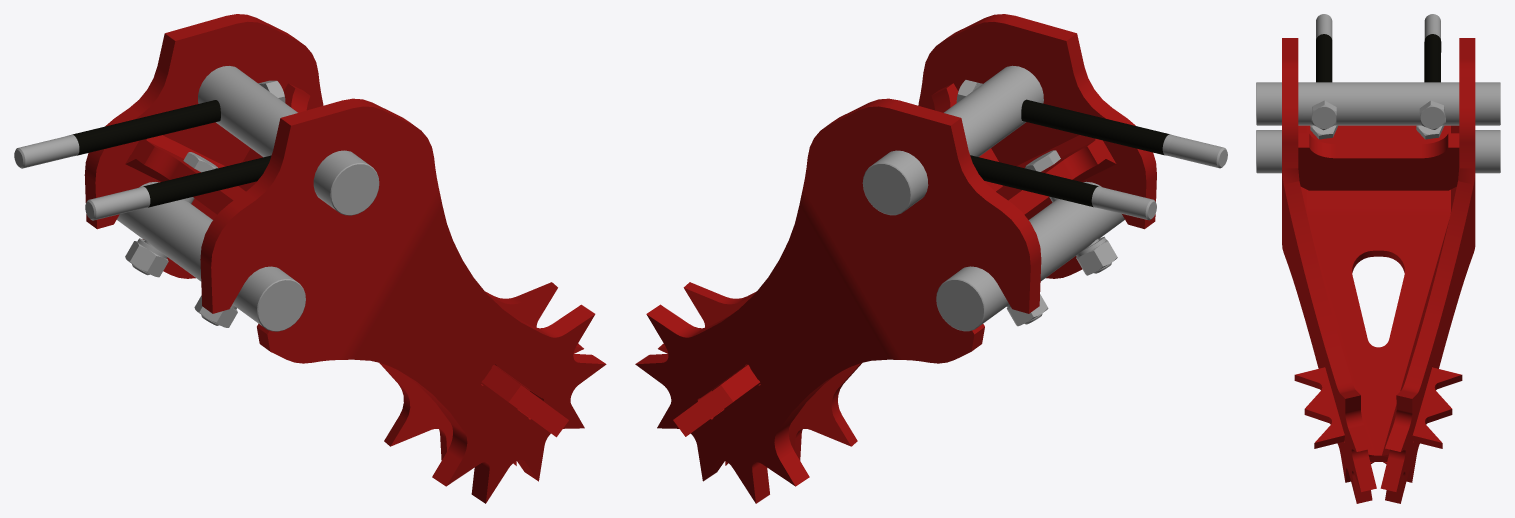
Rendered from MeshPrimitivesVariants.glb.
The picture shows the model from 3 angles, left to right: view 1: azimuth 30°, elevation 25°; view 2: azimuth 150°, elevation 25°; view 3: azimuth 270°, elevation 25°; orthographic projection. The views are drawn at different scales.
Visible parts, largest first — view 1: FIXED HEEL; view 2: FIXED HEEL; view 3: FIXED HEEL.
Part boxes in pixels (<box>): FIXED HEEL: <box>14,14,606,503</box>; FIXED HEEL: <box>635,14,1227,503</box>; FIXED HEEL: <box>1256,14,1500,503</box>.
Bounding box in the file's own units: 5.56 × 4.63 × 2.86.
